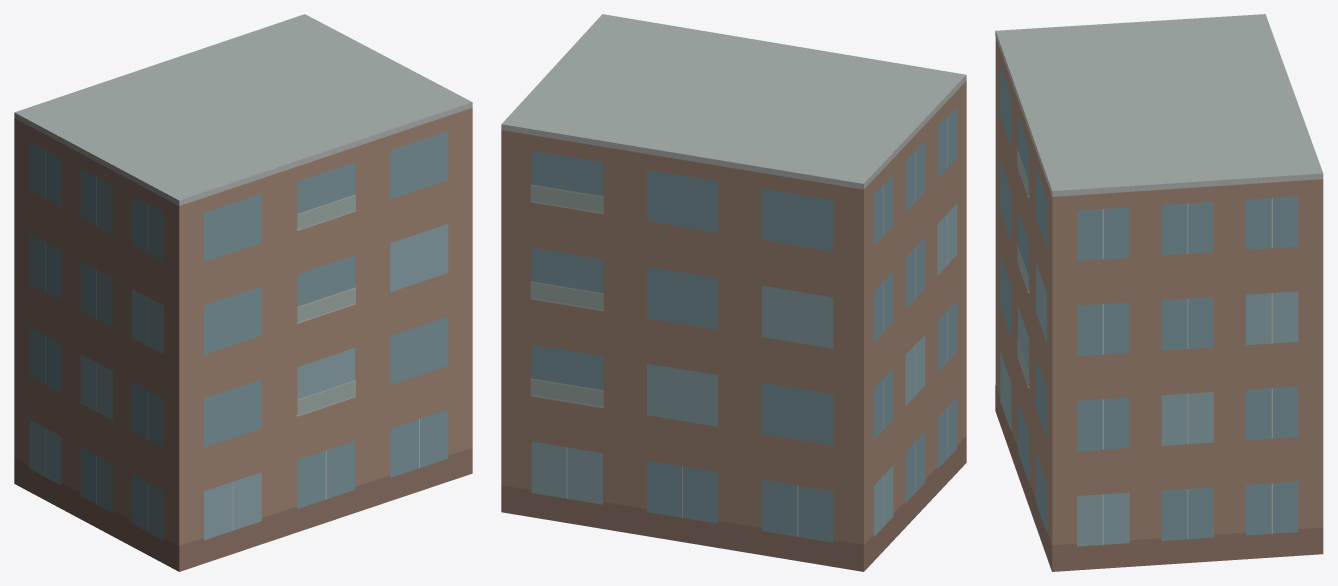
File: survey-upis-32456749.glb
3 views of the same model, side by side, from view 1: azimuth 30°, elevation 25°; view 2: azimuth 150°, elevation 25°; view 3: azimuth 270°, elevation 25° (orthographic). The views are drawn at different scales.
Parts seen in each view (by area): view 1: survey-upis-32456749.tmp; view 2: survey-upis-32456749.tmp; view 3: survey-upis-32456749.tmp.
Part boxes in pixels (bbox=[...]): survey-upis-32456749.tmp: bbox=[14, 14, 472, 571]; survey-upis-32456749.tmp: bbox=[501, 14, 966, 571]; survey-upis-32456749.tmp: bbox=[995, 14, 1323, 571].
Size of the model in its own units: 16.34 by 16.35 by 12.77.
